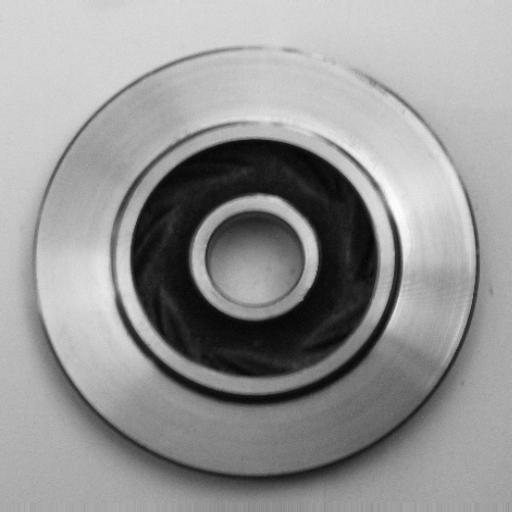scratch: (244, 37, 403, 107)
unpolished_casting: (27, 40, 480, 480)
